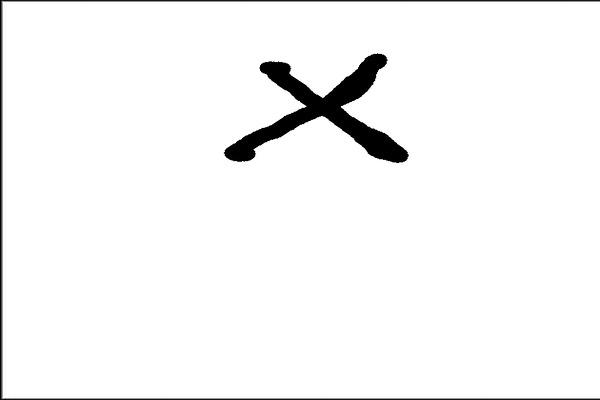X: (201, 45, 427, 175)
